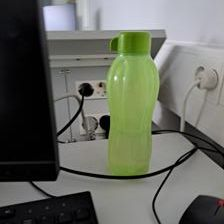bottle: (100, 31, 160, 178)
